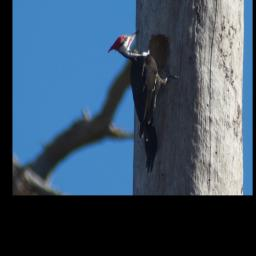Woodpecker: (107, 30, 181, 173)
